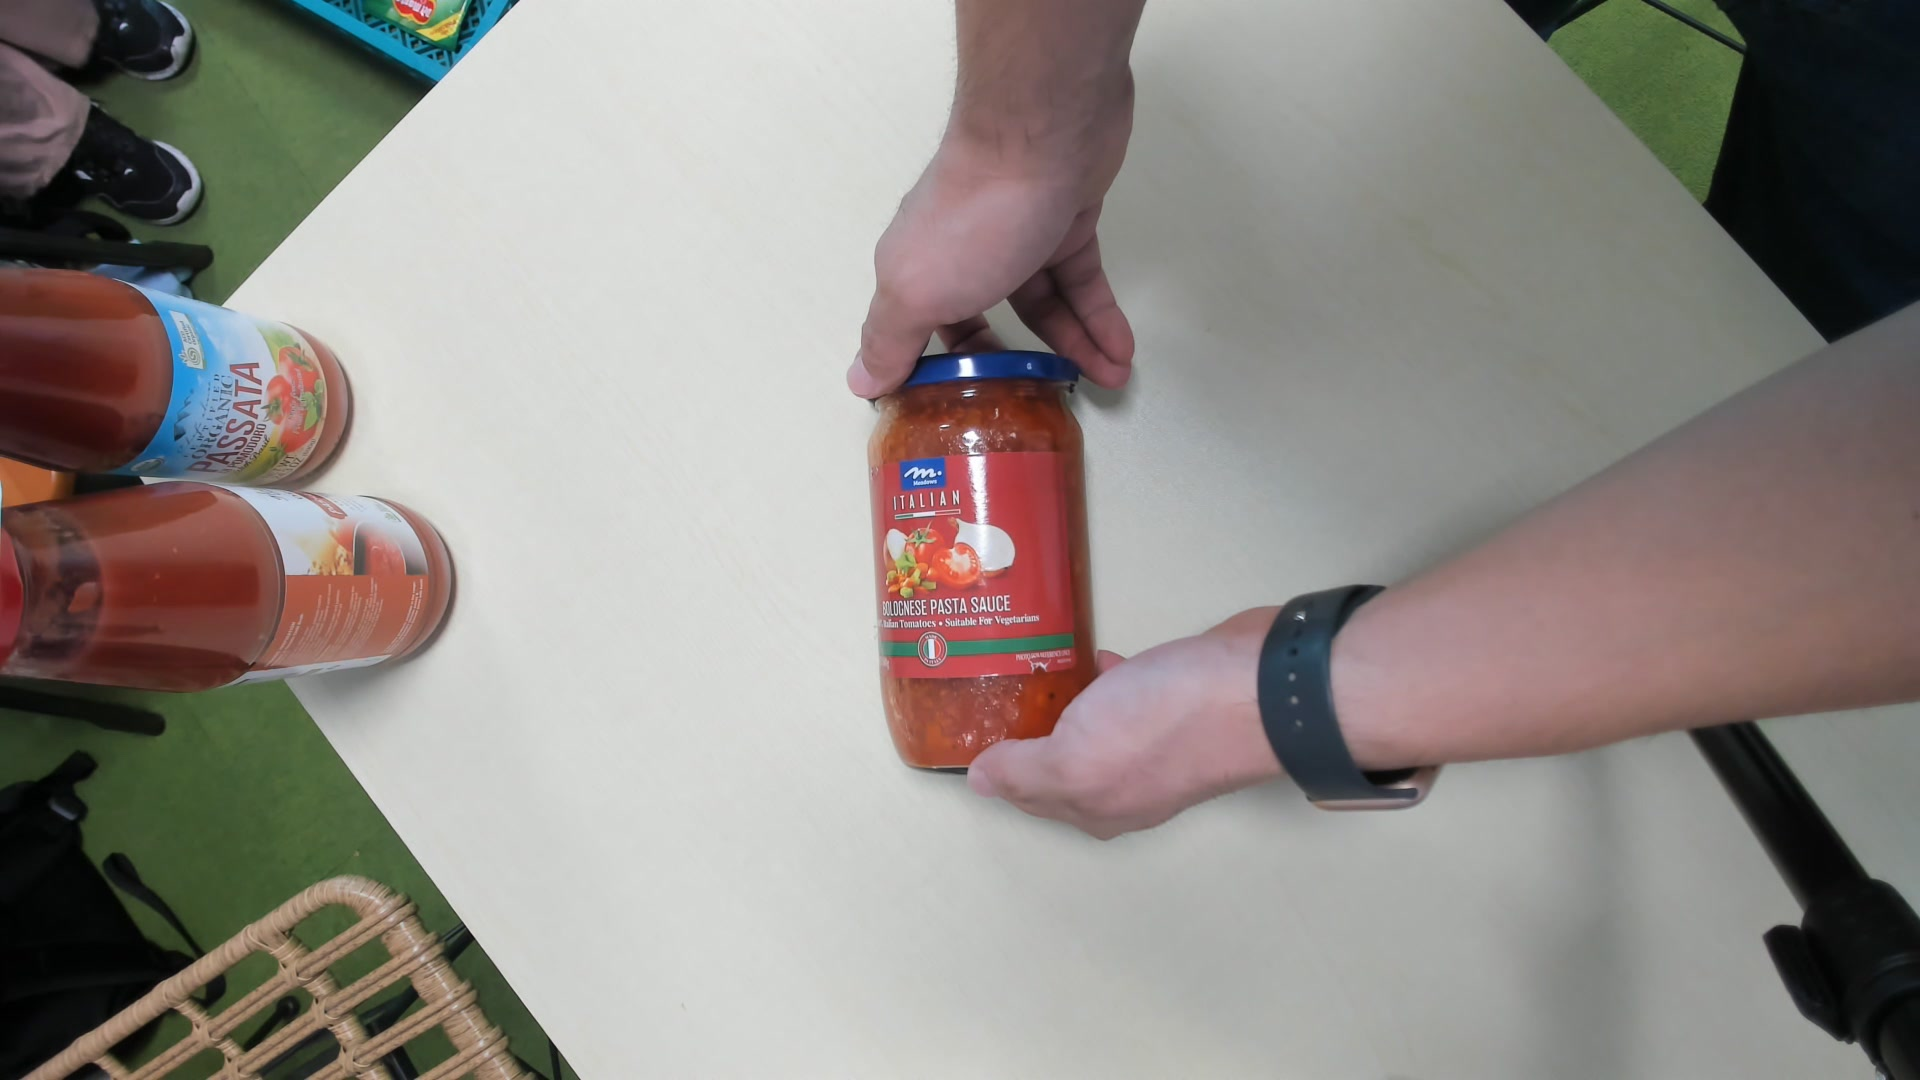PastaSauce_600-699g_Halal_NonHealthy: (872, 342, 1100, 775)
